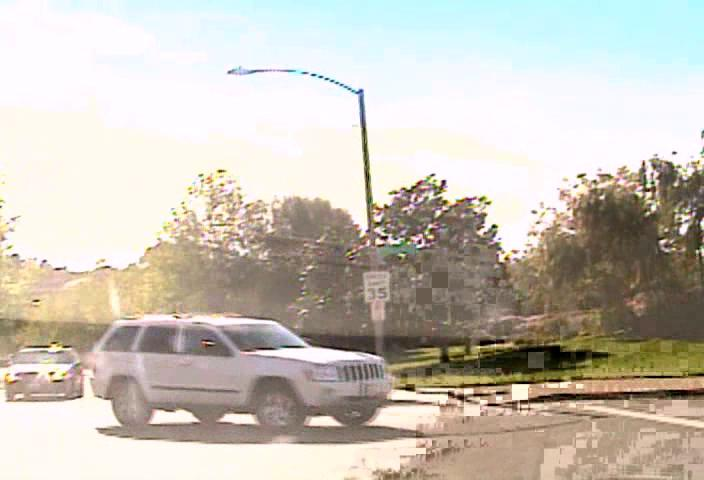speedLimit35: (361, 269, 391, 305)
